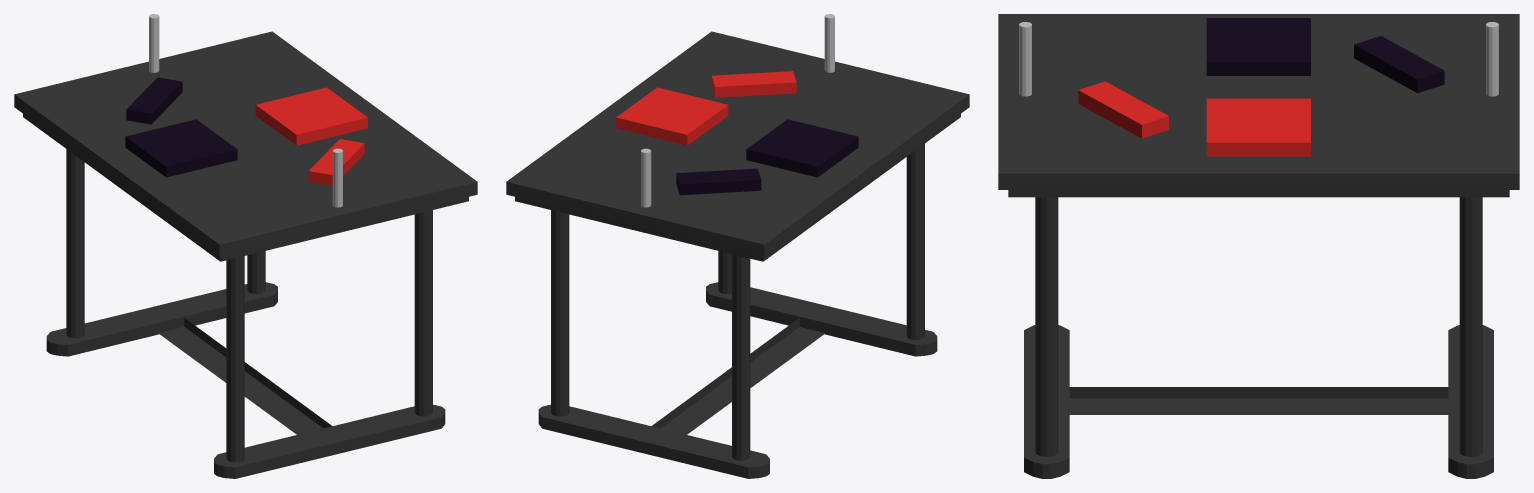
The model's file is mesa.fbx.
3 renders of one model, left to right at view 1: azimuth 30°, elevation 25°; view 2: azimuth 150°, elevation 25°; view 3: azimuth 270°, elevation 25°, orthographic. The views are drawn at different scales.
Parts seen in each view (by area): view 1: mesa de pulsos; view 2: mesa de pulsos; view 3: mesa de pulsos.
Boxes of the visible parts, <box> form: mesa de pulsos: <box>14,14,477,478</box>; mesa de pulsos: <box>506,14,969,478</box>; mesa de pulsos: <box>998,14,1519,478</box>.
Bounding box in the file's own units: 105 × 117 × 144.
